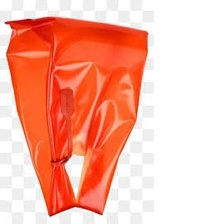plastic_bag: (0, 15, 151, 223)
